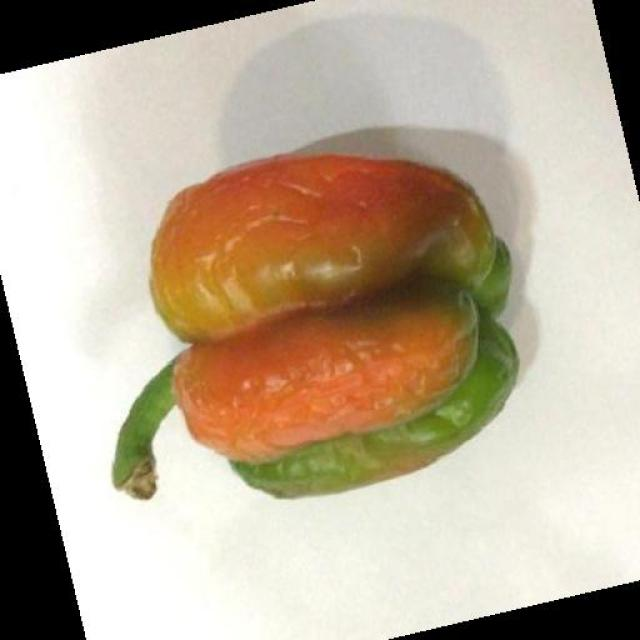Stale_Capsicum: (121, 155, 522, 490)
